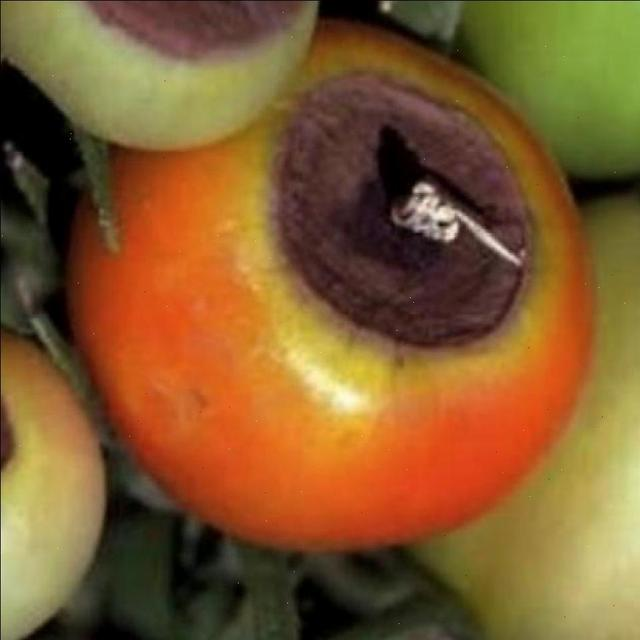Blossom End Rot Fruit: (5, 22, 266, 294)
